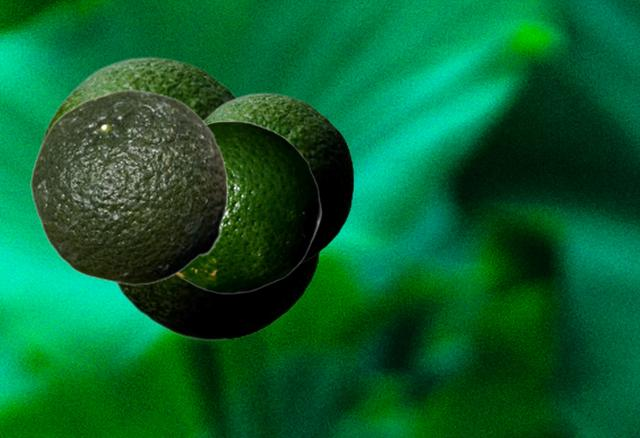calamansi: (30, 89, 227, 284), (204, 92, 353, 267), (175, 120, 321, 293), (38, 56, 236, 147), (112, 254, 321, 340)
